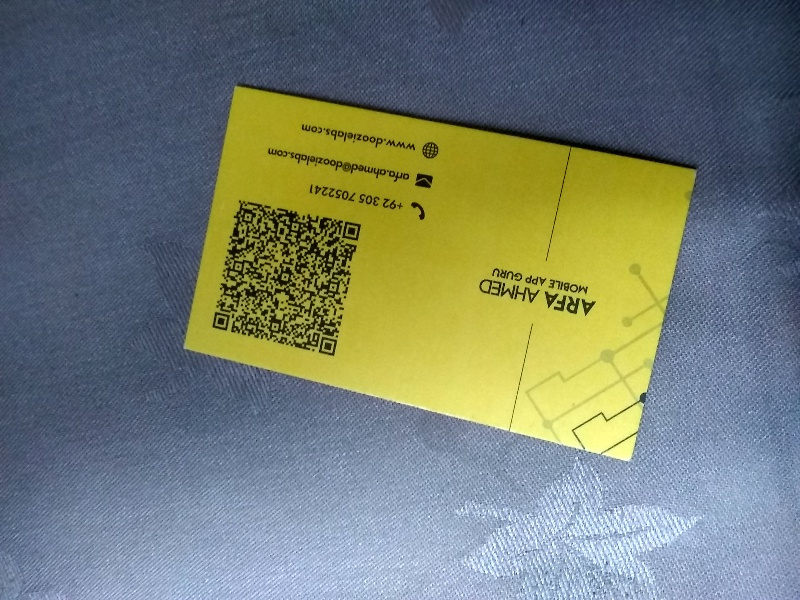front: (182, 82, 707, 460)
